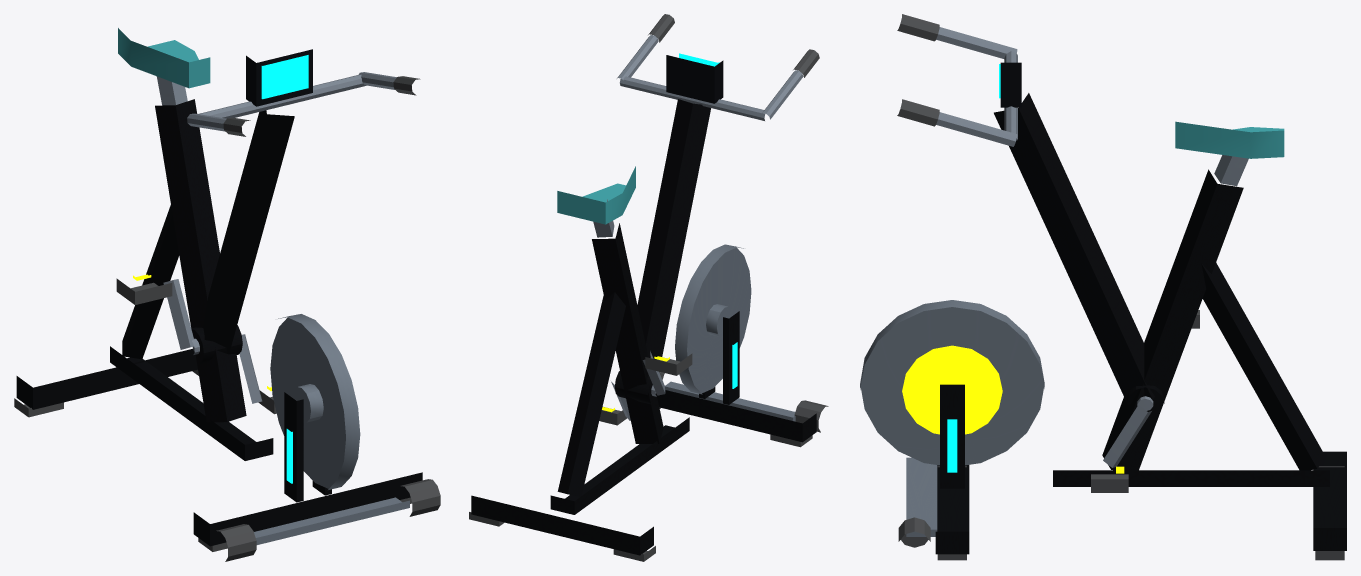
Rendered from tt_gym_cycle.glb.
The picture shows the model from 3 angles, left to right: view 1: azimuth 30°, elevation 25°; view 2: azimuth 150°, elevation 25°; view 3: azimuth 270°, elevation 25°; orthographic projection. The views are drawn at different scales.
Visible parts, largest first — view 1: Frame_Weldment, Flywheel, Saddle, Handlebar, Wheel_Axle, Wheels, Crank_Arms, Console_Screen, Console, Pedals, Grips, Rubber_Feet (+2 smaller); view 2: Frame_Weldment, Flywheel, Handlebar, Saddle, Console, Wheel_Axle, Pedals, Grips, Rubber_Feet, Wheels, Crank_Arms; view 3: Frame_Weldment, Flywheel, Flywheel_Rim_Line, Saddle, Handlebar, Wheel_Axle, Grips, Crank_Arms, Console, Pedals, Seat_Post_Hardware, Wheels (+1 smaller).
Boxes of the visible parts, x1,y1,x2,y2 form: Frame_Weldment: [16, 99, 422, 546]; Flywheel: [270, 314, 360, 489]; Saddle: [118, 28, 210, 88]; Handlebar: [187, 72, 396, 131]; Wheel_Axle: [254, 497, 409, 544]; Wheels: [216, 479, 440, 561]; Crank_Arms: [163, 279, 262, 403]; Console_Screen: [261, 55, 308, 99]; Console: [246, 49, 312, 106]; Pedals: [116, 278, 276, 414]; Grips: [223, 76, 420, 136]; Rubber_Feet: [14, 370, 412, 551]; Frame_Weldment: [471, 99, 816, 555]; Flywheel: [675, 244, 751, 394]; Handlebar: [617, 35, 803, 120]; Saddle: [557, 166, 635, 224]; Console: [666, 55, 723, 103]; Wheel_Axle: [665, 381, 795, 421]; Pedals: [599, 353, 692, 425]; Grips: [648, 14, 819, 77]; Rubber_Feet: [469, 407, 812, 561]; Wheels: [659, 372, 828, 432]; Crank_Arms: [611, 351, 665, 420]; Frame_Weldment: [935, 93, 1346, 554]; Flywheel: [860, 300, 1044, 465]; Flywheel_Rim_Line: [902, 345, 1002, 434]; Saddle: [1175, 121, 1284, 158]; Handlebar: [936, 27, 1017, 146]; Wheel_Axle: [906, 457, 937, 536]; Grips: [897, 14, 939, 126]; Crank_Arms: [1103, 404, 1151, 467]; Console: [1000, 62, 1021, 107]; Pedals: [1091, 310, 1199, 492]; Seat_Post_Hardware: [1214, 155, 1248, 186]; Wheels: [898, 517, 930, 547].
Size of what is drawn, in the model's own units: 0.6 by 1.21 by 1.16.
8 materials, 4 textured.
